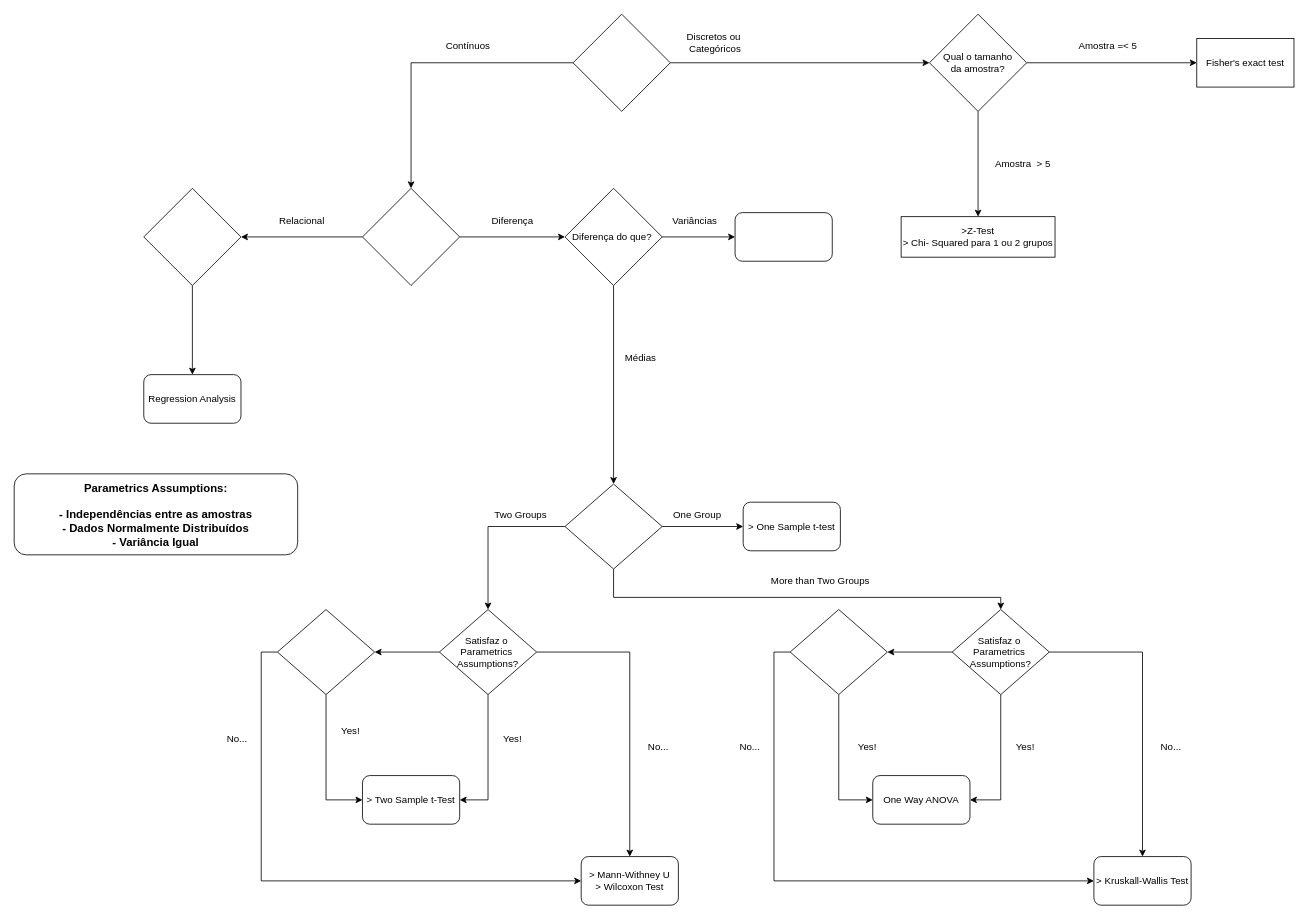
The diagram is 1308 pixels wide and 919 high, and some of its shapes have lost their labels. Here are the shapes that lost their labels. From the top down, the centre of each, then its label:
At point (621, 62): "Qual tipo de Dados?".
At point (192, 237): "Variáveis dependentes ou Independentes?".
At point (411, 237): "Relacional & Diferença".
At point (783, 236): "> Fmax test > Bartlett's test".
At point (613, 526): "Quantos Grupos?".
At point (326, 652): "Os dados foram noramlizados?(Shapiro)".
At point (838, 652): "Os dados foram noramlizados? (Shapiro)".
